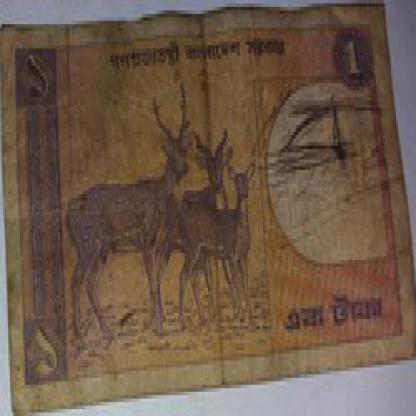One Taka: (283, 291, 386, 336), (25, 319, 65, 381), (15, 45, 55, 104), (341, 35, 366, 80)
